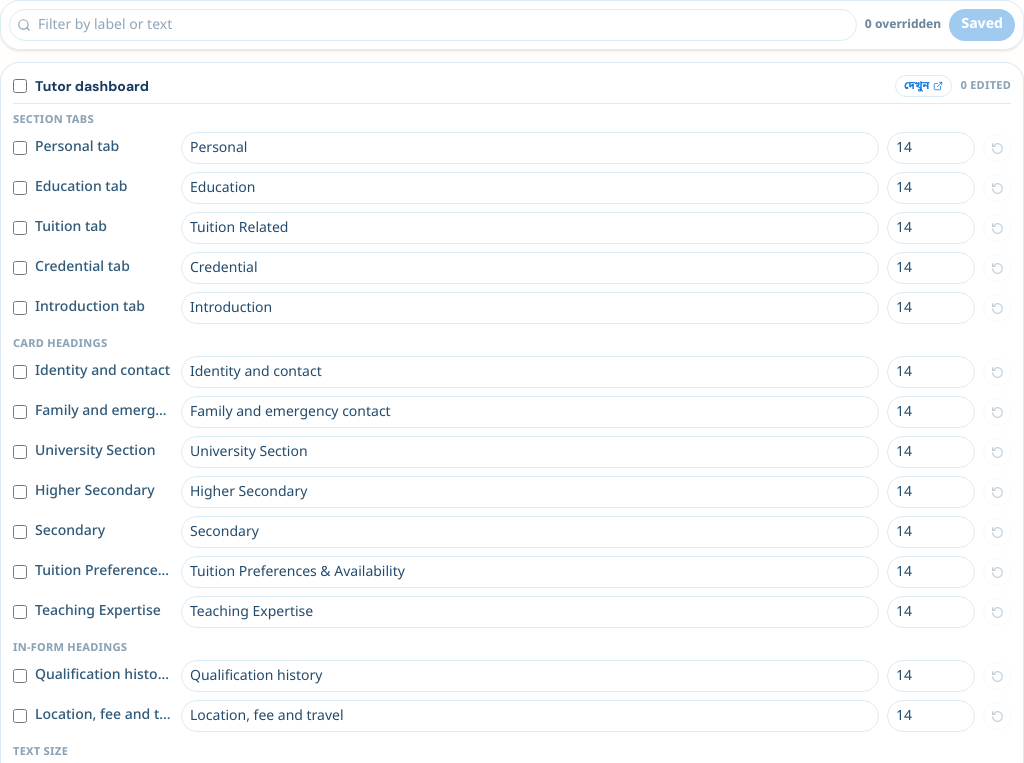
Test: Site content editor bulk actions › shows nothing until a row is ticked, then counts the selection
Click the checkbox named "Select Tutor dashboard Personal tab".
click(20, 148)  # box [13,141,27,155]
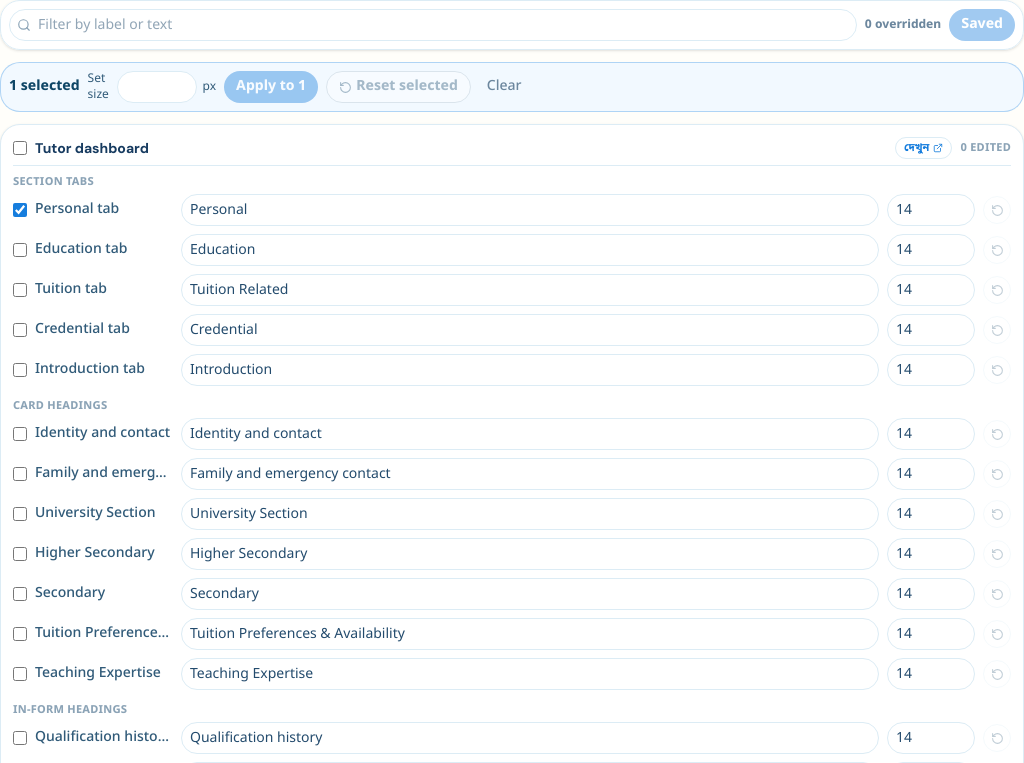
Expected: the text "1 selected" is shown, [9,77,80,97]
